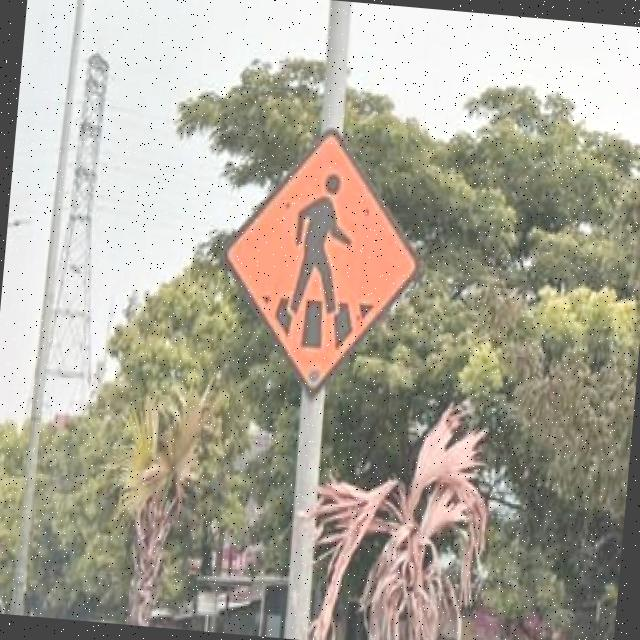Przejscie dla pieszych: (218, 117, 430, 394)
